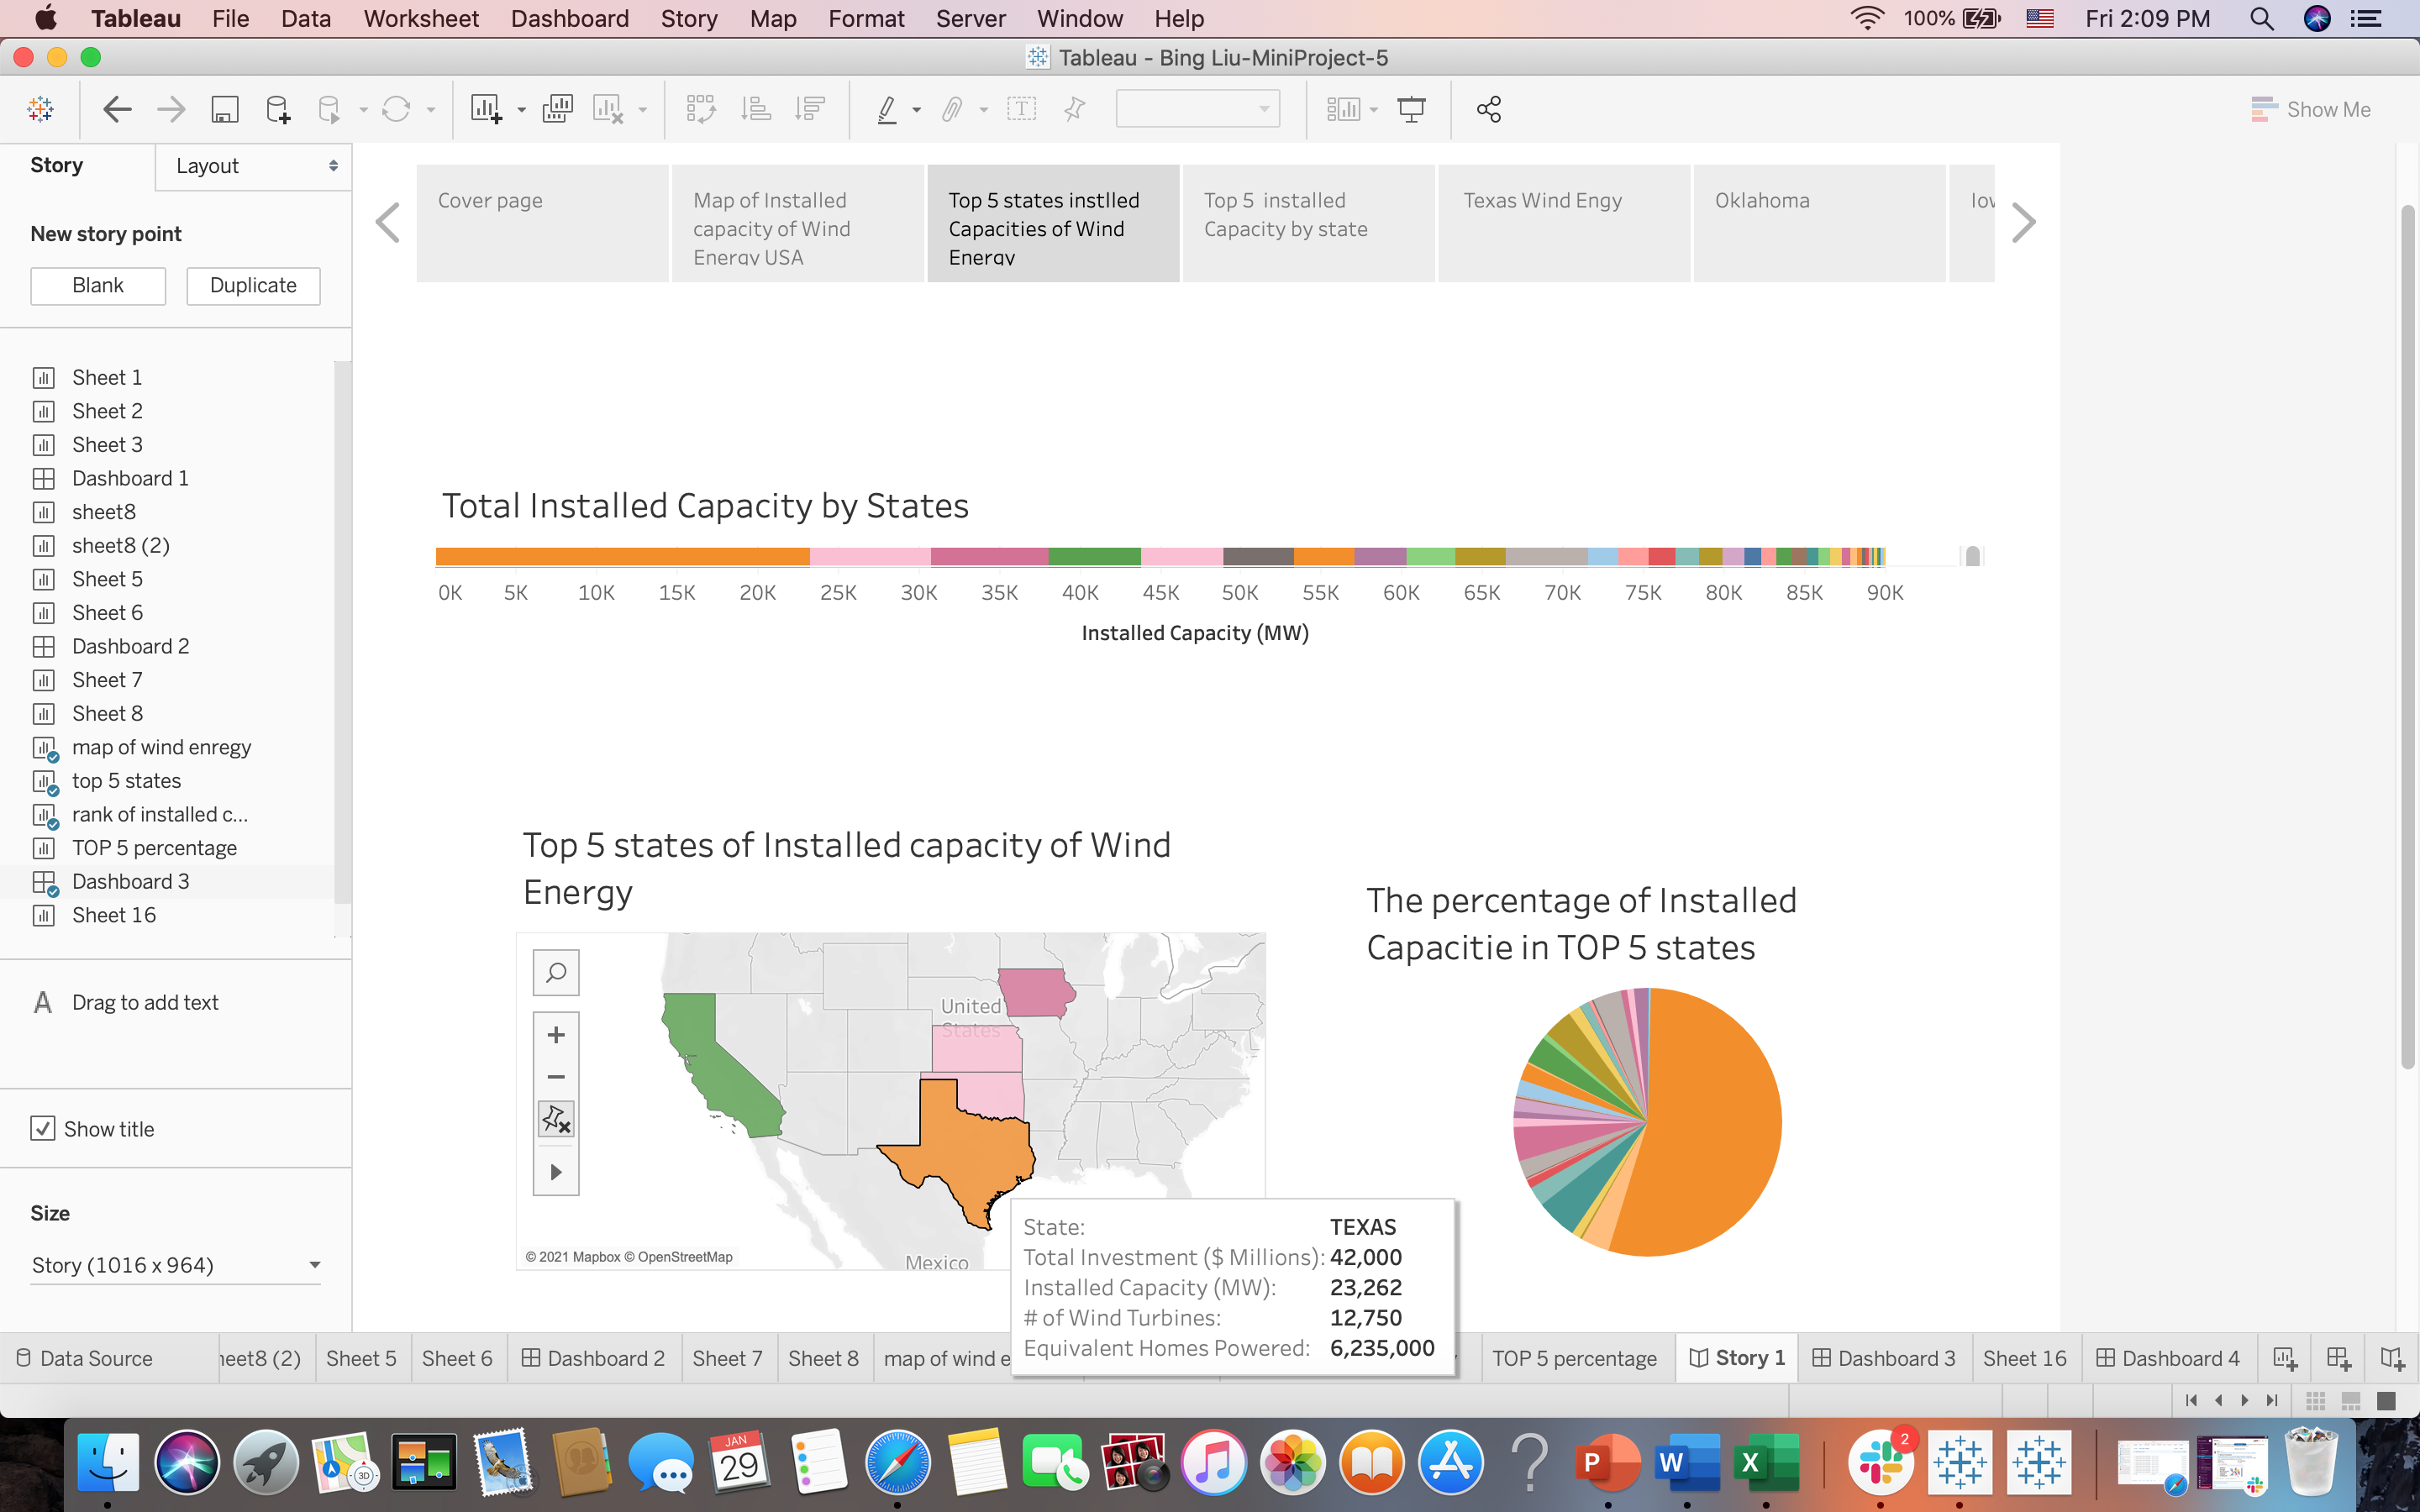

The dashboard page shown, as its layout file describes it:
{"tool":"tableau","page":{"name":"Dashboard 3","canvas":[1000,800],"ordinal":2},"visuals":[{"type":"worksheet","box":[0,0,1000,800]},{"type":"worksheet","param":"vert","box":[8,8,984,784]},{"type":"worksheet","box":[8,8,984,784]},{"type":"worksheet","title":"Sheet 16","mark":"Automatic","cols":["Installed Capacity (MW)"],"box":[41,94,922,110]},{"type":"worksheet","title":"top 5 states","mark":"Multipolygon","box":[89,296,447,273]},{"type":"worksheet","title":"TOP 5 percentage","mark":"Pie","box":[591,329,343,245]}]}

Visuals, with their boxes on the page's 1000x800 design canvas (x1, y1, x2, y2). These are canvas units, not pixel positions in the 2420x1512 screenshot, which may show the page scaled, cropped or inside an application window:
worksheet: 0 0 1000 800
worksheet: 8 8 992 792
worksheet: 8 8 992 792
"Sheet 16" worksheet: 41 94 963 204
"top 5 states" worksheet (Multipolygon marks): 89 296 536 569
"TOP 5 percentage" worksheet (Pie marks): 591 329 934 574
